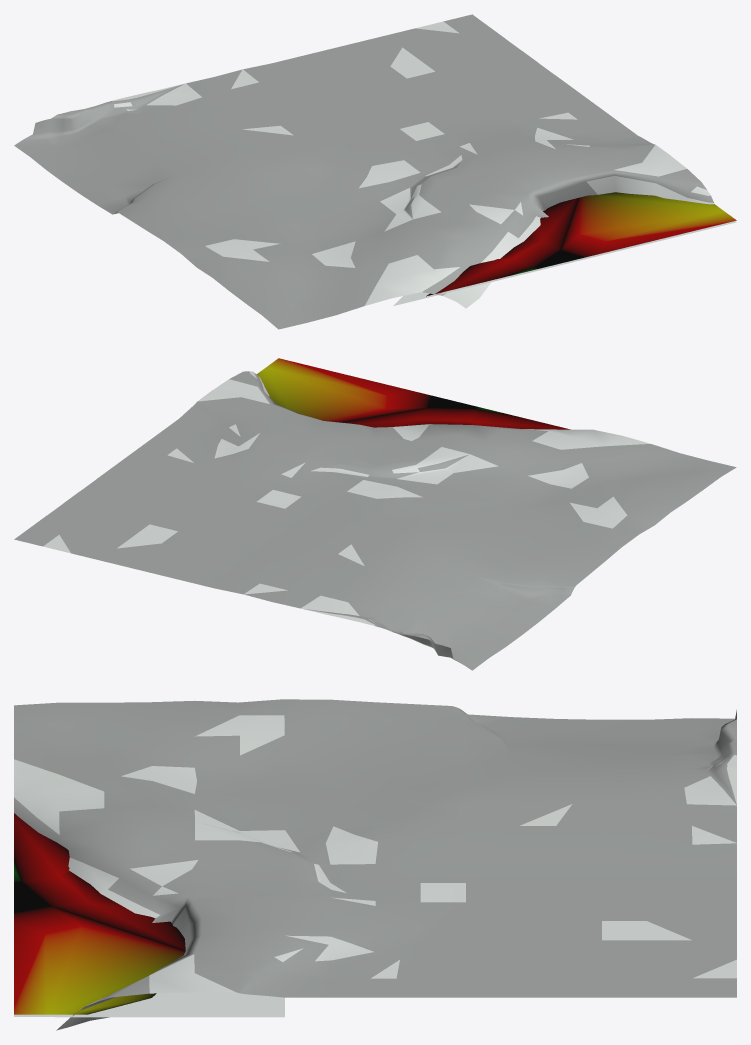
3 renders of one model, top to bottom at view 1: azimuth 30°, elevation 25°; view 2: azimuth 150°, elevation 25°; view 3: azimuth 270°, elevation 25°, orthographic. The views are drawn at different scales.
Visible parts, largest first — view 1: G:\FFXIV-MapTools\exports\g3f2\bg\ex2\01_gyr_g3\fld\g3f2\bgp (×10); view 2: G:\FFXIV-MapTools\exports\g3f2\bg\ex2\01_gyr_g3\fld\g3f2\bgp (×8); view 3: G:\FFXIV-MapTools\exports\g3f2\bg\ex2\01_gyr_g3\fld\g3f2\bgp (×10).
Part boxes in pixels (x1=…): G:\FFXIV-MapTools\exports\g3f2\bg\ex2\01_gyr_g3\fld\g3f2\bgp (×10): x1=14, y1=14, x2=736, y2=329; G:\FFXIV-MapTools\exports\g3f2\bg\ex2\01_gyr_g3\fld\g3f2\bgp (×8): x1=14, y1=358, x2=736, y2=670; G:\FFXIV-MapTools\exports\g3f2\bg\ex2\01_gyr_g3\fld\g3f2\bgp (×10): x1=14, y1=699, x2=736, y2=1030.
Size of the model in its own units: 128 by 11.14 by 128.
